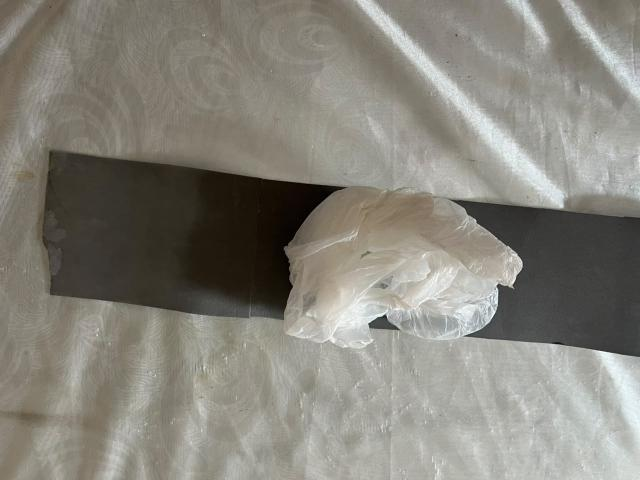LDPE: (248, 141, 580, 403)
